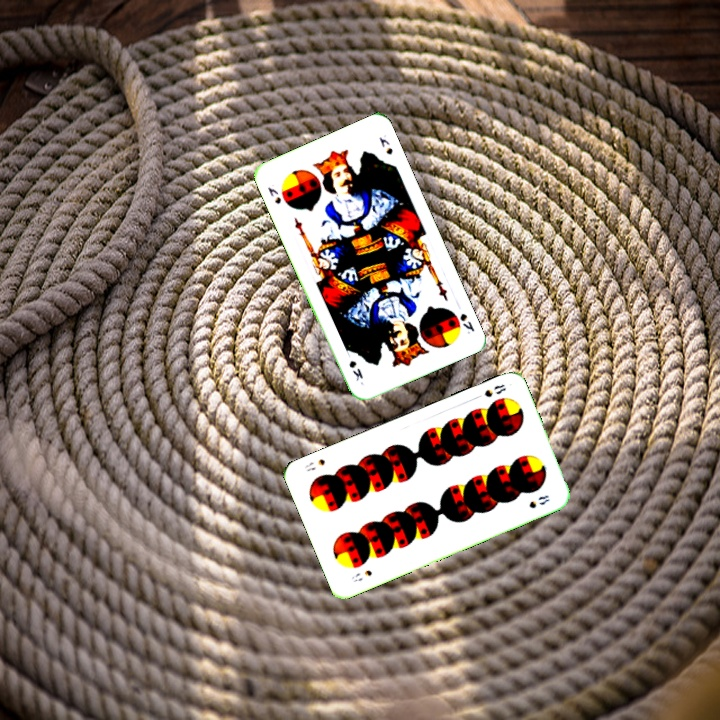S8: (480, 380, 509, 400), (347, 566, 375, 584)
SK: (456, 309, 477, 336), (264, 183, 284, 207)
